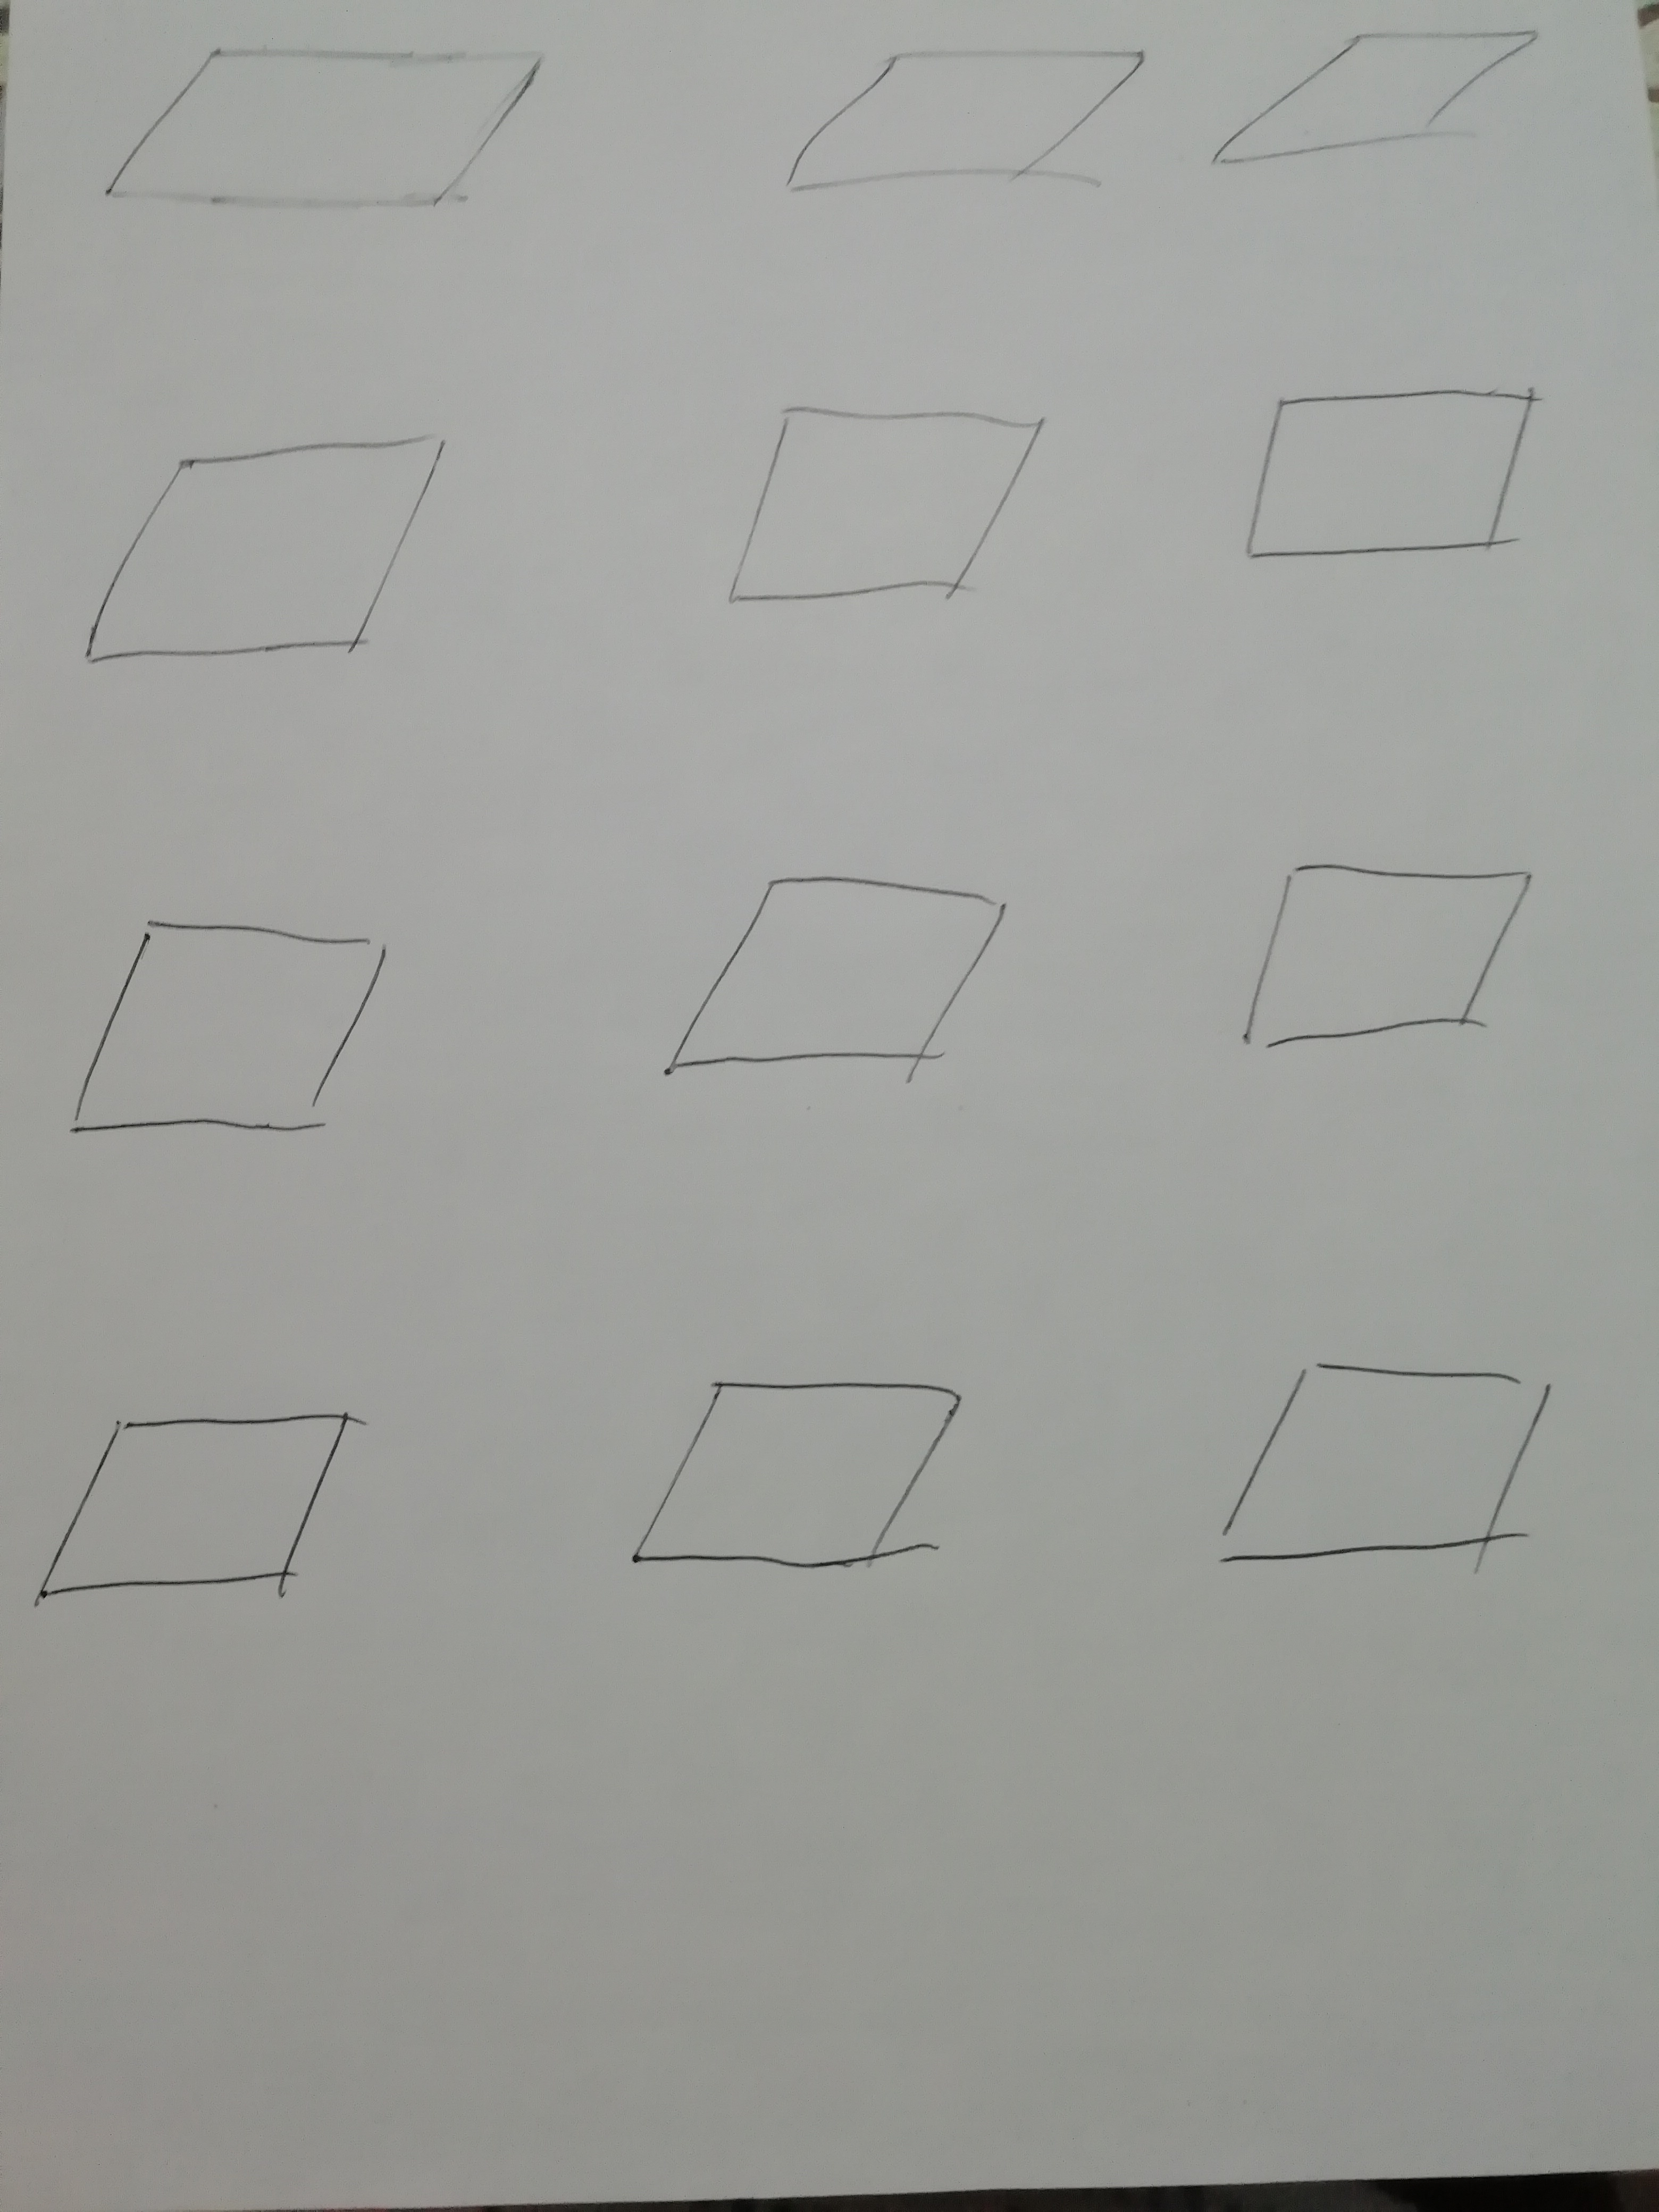scan: (40, 411, 498, 709), (54, 14, 591, 263), (9, 876, 416, 1202), (1178, 1318, 1600, 1630), (575, 1343, 1012, 1627), (619, 836, 1058, 1116), (667, 376, 1086, 651), (19, 1386, 416, 1655), (1218, 819, 1593, 1103), (756, 14, 1175, 258), (1192, 7, 1582, 233), (1209, 362, 1582, 585)
